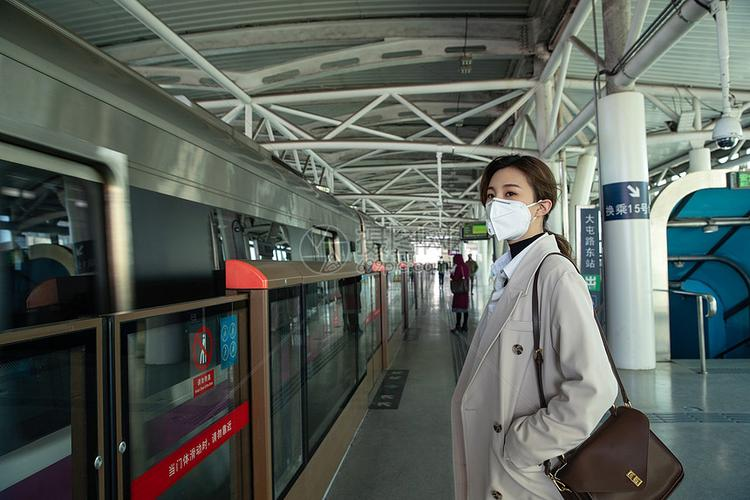mask: (483, 167, 537, 244)
